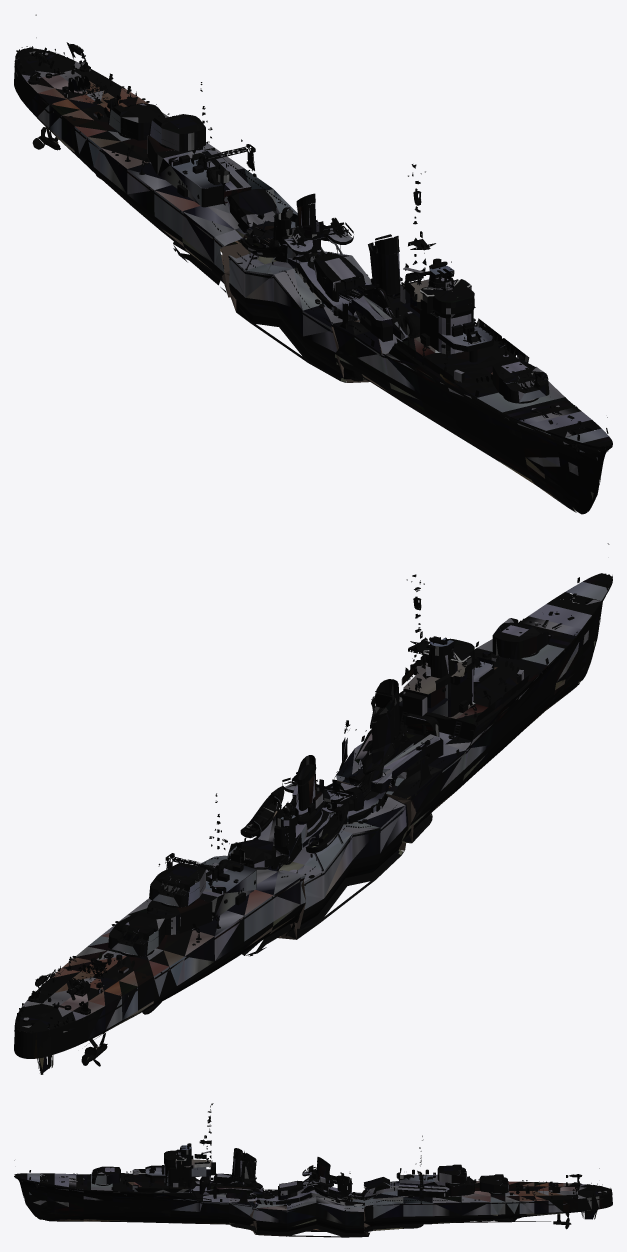
The model's file is yukikaze-wreck.glb.
3 renders of one model, top to bottom at view 1: azimuth 30°, elevation 25°; view 2: azimuth 150°, elevation 25°; view 3: azimuth 270°, elevation 25°, orthographic. The views are drawn at different scales.
Visible parts, largest first — view 1: wreck_stern, wreck_bow, wreck_mid; view 2: wreck_stern, wreck_bow, wreck_mid; view 3: wreck_stern, wreck_bow, wreck_mid.
Boxes of the visible parts, x1=… form: wreck_stern: x1=331, y1=164, x2=612, y2=514; wreck_bow: x1=14, y1=14, x2=298, y2=297; wreck_mid: x1=228, y1=193, x2=388, y2=382; wreck_stern: x1=334, y1=543, x2=612, y2=843; wreck_bow: x1=14, y1=793, x2=305, y2=1074; wreck_mid: x1=240, y1=753, x2=408, y2=939; wreck_stern: x1=14, y1=1103, x2=256, y2=1231; wreck_bow: x1=364, y1=1135, x2=612, y2=1232; wreck_mid: x1=250, y1=1157, x2=370, y2=1237.
Bounding box in the file's own units: 12.66 × 32.3 × 136.
2 materials, 1 textured.
